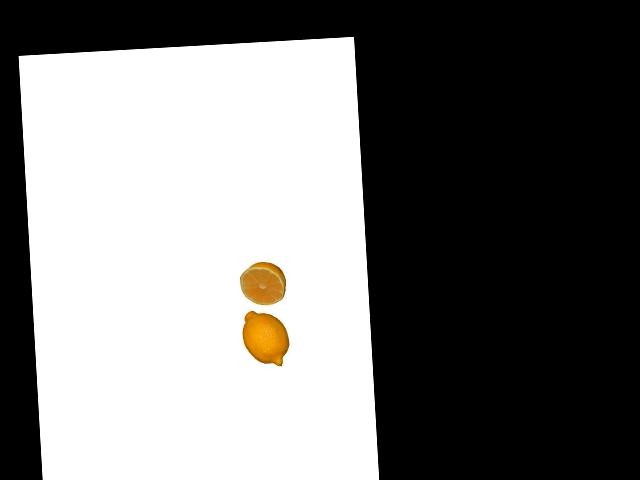lemon: (240, 308, 290, 366)
